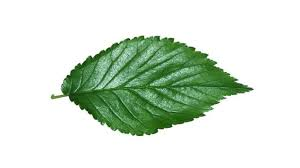healthy: (52, 24, 257, 145)
